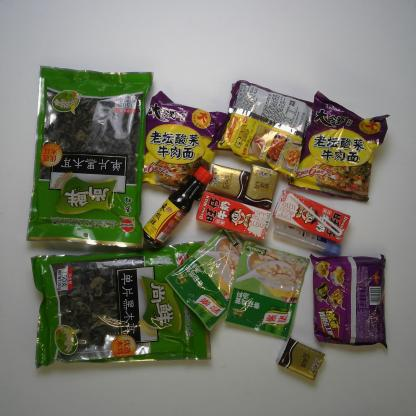Dried Food: (31, 240, 212, 375), (28, 66, 153, 250)
Instant Noodles: (208, 80, 320, 182), (287, 92, 390, 202), (133, 91, 234, 201), (309, 251, 388, 352)
Milk: (270, 191, 354, 246), (192, 192, 275, 239)
Seasoner: (163, 226, 273, 330), (225, 240, 309, 340), (141, 166, 211, 250)
Stationery: (268, 218, 345, 260)
Tissue: (276, 338, 328, 380), (206, 162, 250, 200), (244, 165, 278, 208)
